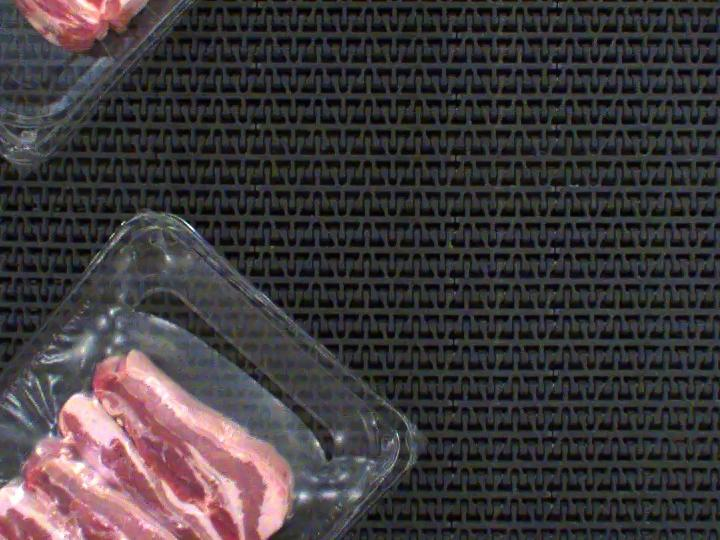unsealed: (0, 245, 384, 540)
